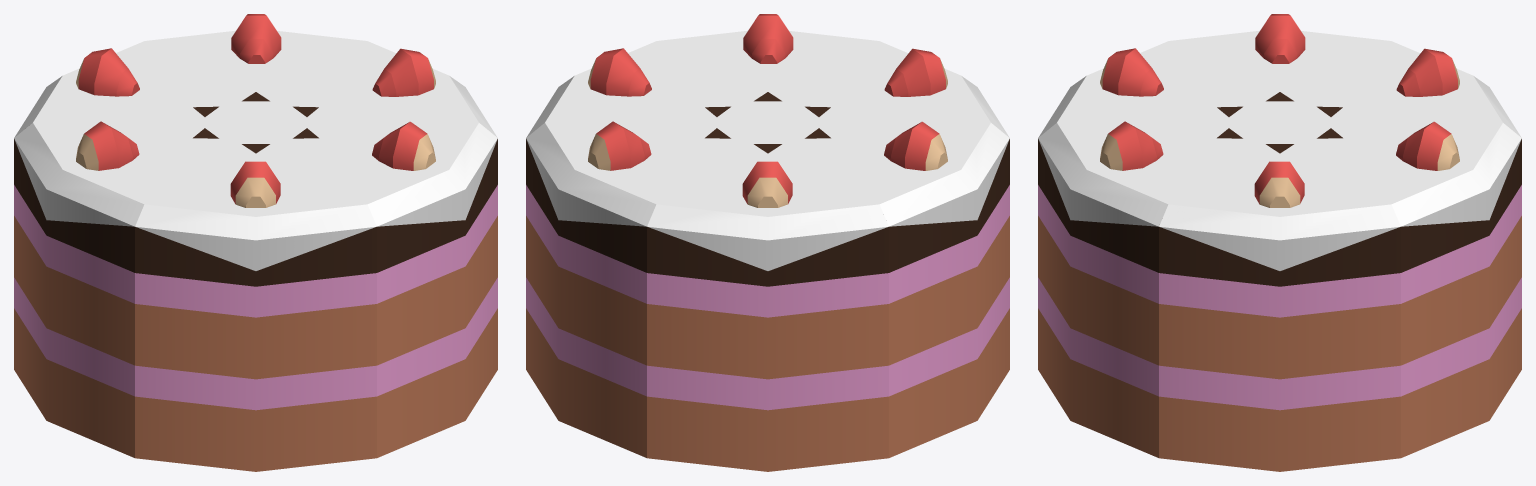
File: candy_cake.glb
The picture shows the model from 3 angles, left to right: view 1: azimuth 30°, elevation 25°; view 2: azimuth 150°, elevation 25°; view 3: azimuth 270°, elevation 25°; orthographic projection.
Parts seen in each view (by area): view 1: slice; view 2: slice; view 3: slice.
Part boxes in pixels (x1,y1,x2,y2): slice: [14, 14, 497, 471]; slice: [526, 14, 1009, 471]; slice: [1038, 14, 1521, 471].
Bounding box in the file's own units: 4.6 × 2.95 × 4.6.
